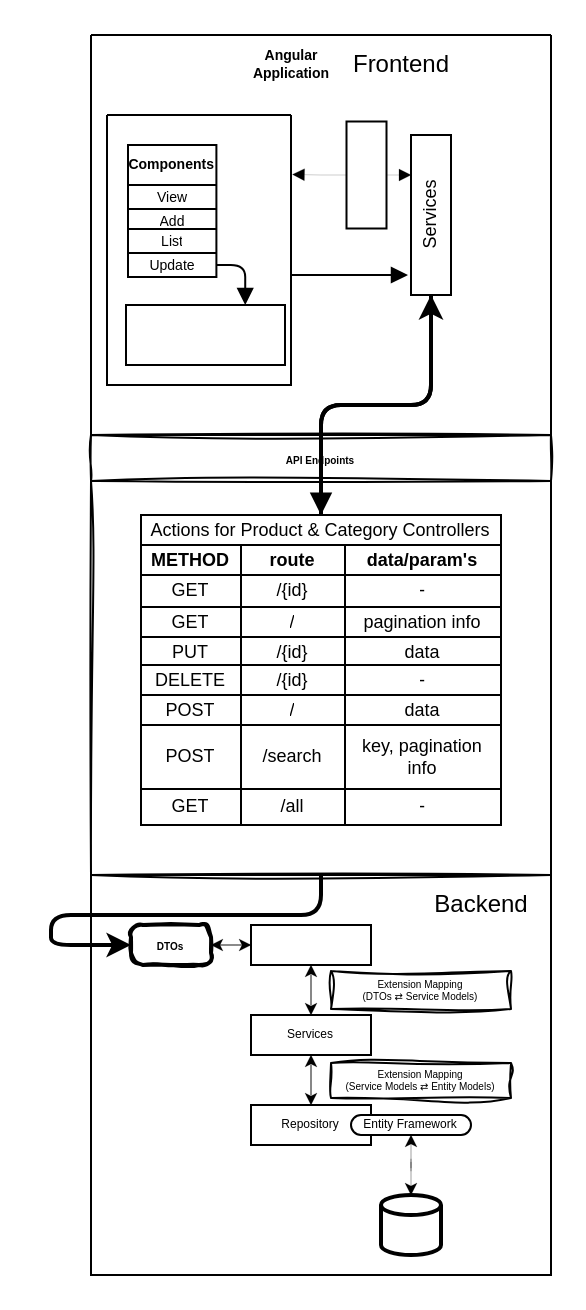
Image size: 586x1310. Some labels were removed from this diagram. The centre of each missing label's shape, as x and y in pixels:
API Controller: the point at 310,944
MySQL: the point at 410,1224
Product & Category Modules: the point at 204,334
Resolver: the point at 366,174
